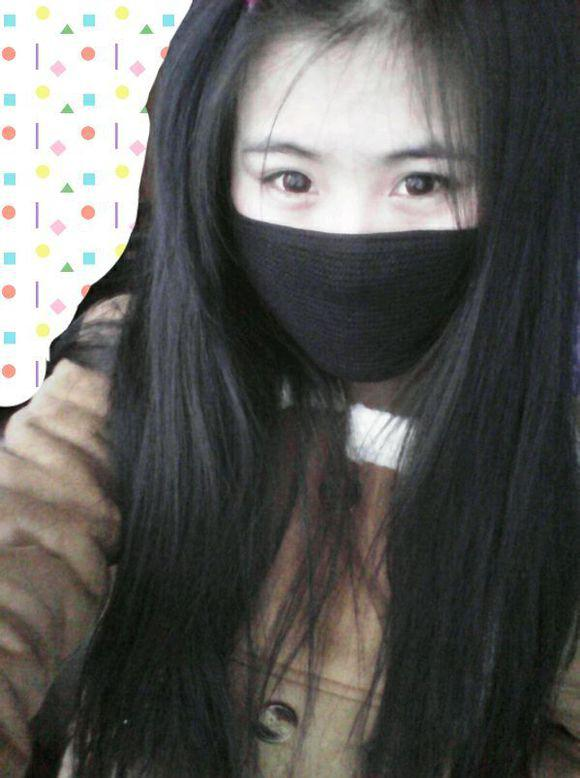OK: (225, 126, 492, 393)
